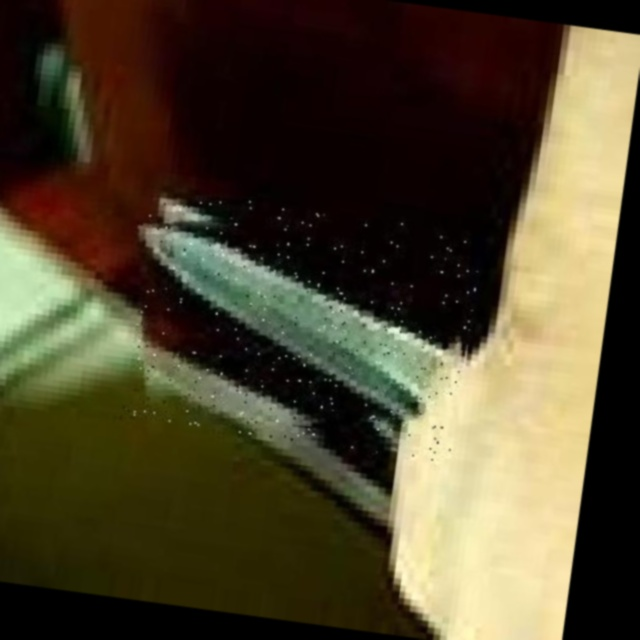Sharp-Object: (119, 186, 484, 463)
